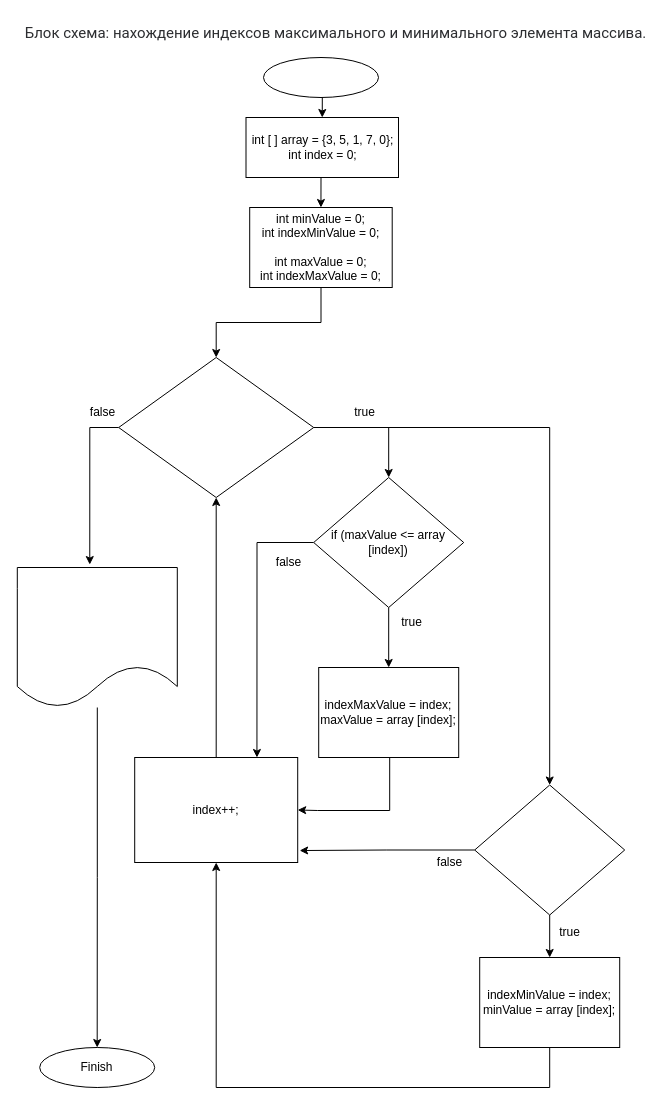
This 668x1113 diagram has some shape labels left out. Here are the shapes that lost their labels. From the top down, the centre of each, then its label:
At (x=320, y=77): "Start".
At (x=216, y=427): "while (index < array.lenght )".
At (x=96, y=637): "Print(indexMinValue, indexMaxValue)".
At (x=549, y=849): "if (minValue >= array [index])".
